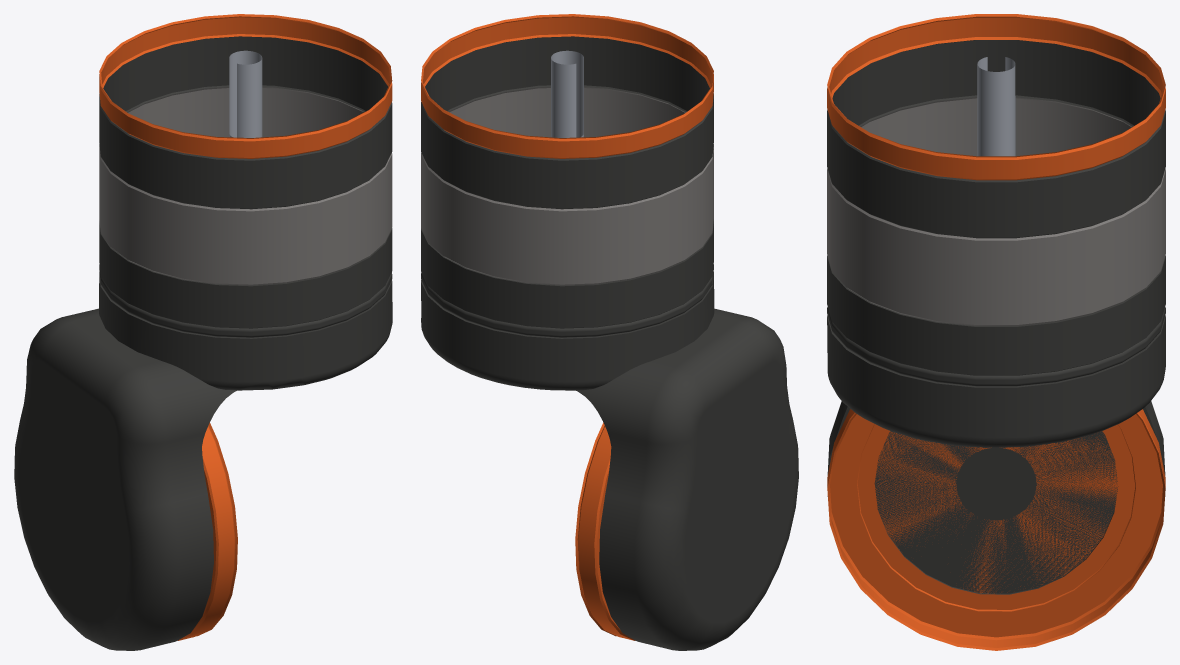
The model's file is igus_REBEL_j4.gltf.
The picture shows the model from 3 angles, left to right: view 1: azimuth 30°, elevation 25°; view 2: azimuth 150°, elevation 25°; view 3: azimuth 270°, elevation 25°; orthographic projection. The views are drawn at different scales.
Visible parts, largest first — view 1: ReBel006.120; view 2: ReBel006.120; view 3: ReBel006.120.
Boxes of the visible parts, x1,y1,x2,y2 form: ReBel006.120: (14, 14, 392, 650); ReBel006.120: (421, 14, 798, 650); ReBel006.120: (827, 14, 1165, 650).
Size of the model in its own units: 0.0939 by 0.1648 by 0.08.
